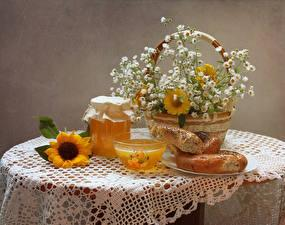chamomile: (233, 73, 243, 84), (227, 78, 238, 86), (243, 61, 253, 69), (247, 89, 257, 97), (201, 76, 211, 84), (181, 30, 192, 37), (225, 57, 234, 65), (177, 48, 185, 56), (221, 97, 230, 104), (178, 84, 188, 90), (177, 38, 183, 48), (249, 64, 256, 72), (209, 81, 217, 88), (179, 78, 186, 86), (195, 31, 200, 38), (192, 37, 195, 45)
